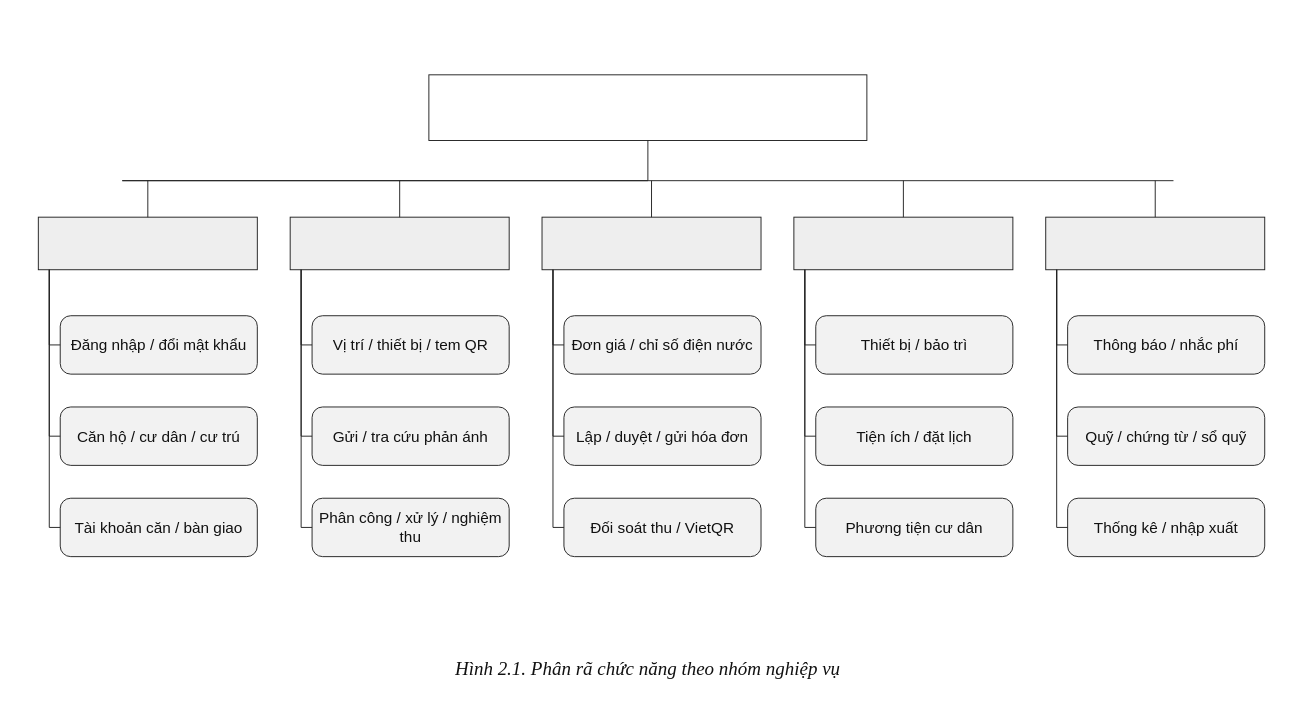
Image size: 1295x718. Some labels were removed from this diagram. The shapes that lost their labels are listed below. From the top down, each one's centre as x and y in pixels, then its label:
point 647,107: QUẢN LÝ VẬN HÀNH CHUNG CƯ VÀ TIẾP NHẬN PHẢN ÁNH
point 147,243: 1. Tài khoản / hồ sơ
point 399,243: 2. Phản ánh QR
point 651,243: 3. Phí và hóa đơn
point 903,243: 4. Vận hành
point 1155,243: 5. Điều hành / tài chính
